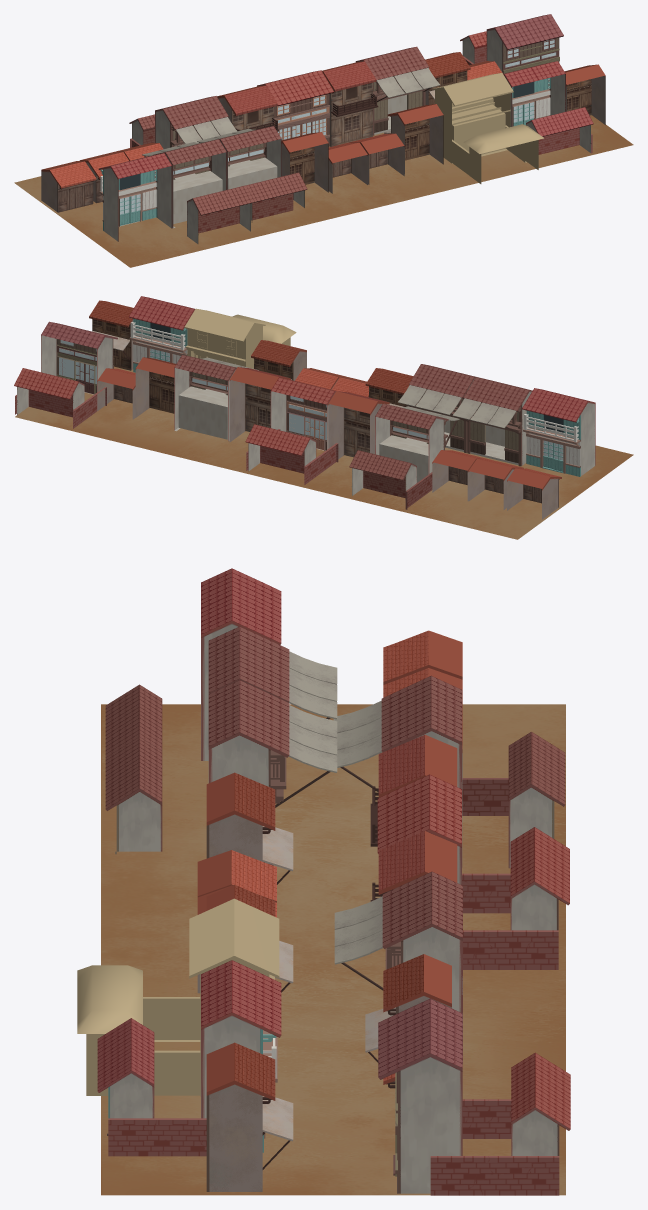
3 views of the same model, one above another, from view 1: azimuth 30°, elevation 25°; view 2: azimuth 150°, elevation 25°; view 3: azimuth 270°, elevation 25° (orthographic). The views are drawn at different scales.
Visible parts, largest first — view 1: Box001, Box008, Shop003, Shop002, A006, Shop001, Shop, Inn, B1, B003, A005, Pharmacy004 (+12 smaller); view 2: Box001, Shop, A006, Shop003, Shop001, Box008, B003, A005, B1, Shop002, B2, B004 (+12 smaller); view 3: Box001, Shop002, Box008, Shop, B003, B004, B2, Shop003, Pharmacy002, Shop001, A004, A005 (+10 smaller).
Boxes of the visible parts, bbox=[...] form: Box001: bbox=[14, 115, 633, 267]; Box008: bbox=[432, 73, 543, 183]; Shop003: bbox=[142, 139, 254, 243]; Shop002: bbox=[197, 126, 307, 231]; A006: bbox=[98, 153, 172, 241]; Shop001: bbox=[355, 46, 440, 135]; Shop: bbox=[129, 96, 236, 148]; Inn: bbox=[322, 61, 378, 146]; B1: bbox=[257, 70, 334, 146]; B003: bbox=[486, 14, 563, 73]; A005: bbox=[503, 61, 565, 126]; Pharmacy004: bbox=[384, 104, 443, 173]; Box001: bbox=[15, 366, 633, 539]; Shop: bbox=[349, 404, 459, 509]; A006: bbox=[522, 388, 595, 476]; Shop003: bbox=[452, 377, 532, 466]; Shop001: bbox=[174, 355, 258, 441]; Box008: bbox=[184, 308, 296, 368]; B003: bbox=[41, 321, 117, 411]; A005: bbox=[129, 296, 195, 372]; B1: bbox=[270, 377, 335, 450]; Shop002: bbox=[397, 364, 478, 452]; B2: bbox=[245, 424, 338, 484]; B004: bbox=[14, 368, 106, 428]; Box001: bbox=[101, 704, 565, 1195]; Shop002: bbox=[105, 680, 337, 865]; Box008: bbox=[77, 898, 279, 1096]; Shop: bbox=[333, 675, 565, 868]; B003: bbox=[378, 998, 462, 1193]; B004: bbox=[430, 1052, 570, 1195]; B2: bbox=[462, 827, 569, 969]; Shop003: bbox=[105, 626, 337, 757]; Pharmacy002: bbox=[206, 1042, 293, 1191]; Shop001: bbox=[334, 871, 462, 1063]; A004: bbox=[97, 1018, 206, 1156]; A005: bbox=[201, 960, 281, 1152].
Bounding box in the file's own units: 30.08 × 4.62 × 12.74.
